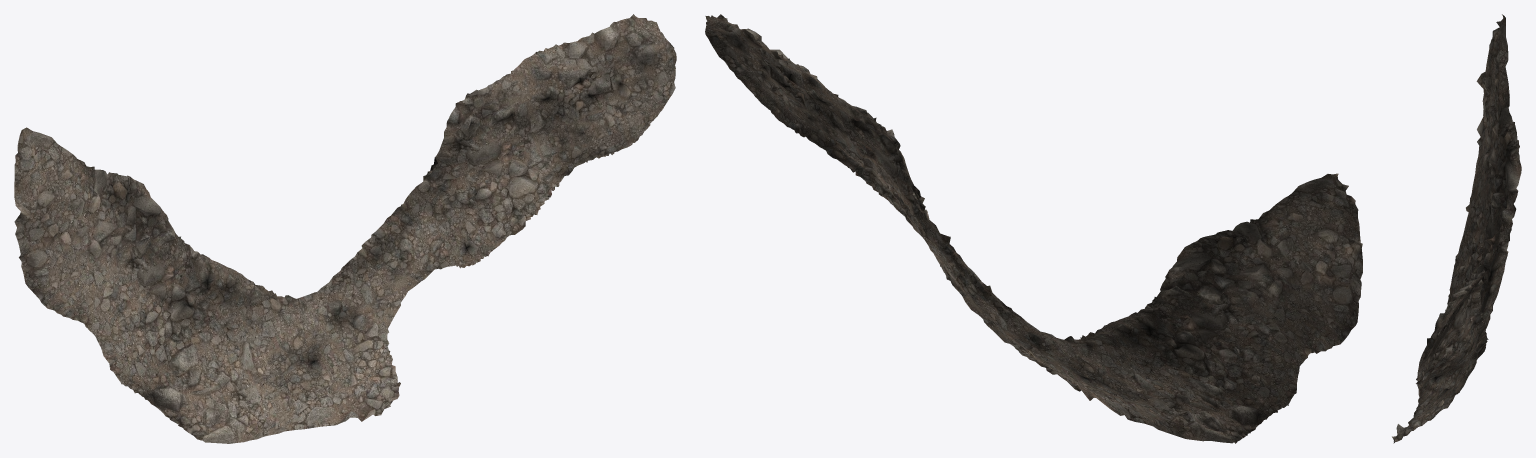
Rendered from stijene_razbijene.glb.
The picture shows the model from 3 angles, left to right: view 1: azimuth 30°, elevation 25°; view 2: azimuth 150°, elevation 25°; view 3: azimuth 270°, elevation 25°; orthographic projection. The views are drawn at different scales.
Visible parts, largest first — view 1: Background_Tree_Atlas.026_Broken_Rocks_0; view 2: Background_Tree_Atlas.026_Broken_Rocks_0; view 3: Background_Tree_Atlas.026_Broken_Rocks_0.
Boxes of the visible parts, bbox=[...] form: Background_Tree_Atlas.026_Broken_Rocks_0: bbox=[14, 14, 676, 443]; Background_Tree_Atlas.026_Broken_Rocks_0: bbox=[705, 14, 1362, 443]; Background_Tree_Atlas.026_Broken_Rocks_0: bbox=[1392, 14, 1521, 443].
Size of the model in its own units: 77.57 by 37.69 by 14.87.
1 material, 1 textured.
